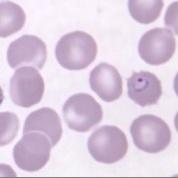Infected: (126, 70, 161, 106)
Uninfected: (22, 107, 62, 148), (56, 31, 96, 71), (63, 93, 103, 133), (6, 35, 47, 74), (130, 114, 170, 153), (12, 131, 50, 172), (86, 125, 127, 163), (8, 65, 45, 107), (138, 27, 176, 66), (90, 63, 122, 103), (0, 0, 25, 38), (127, 0, 163, 25)
